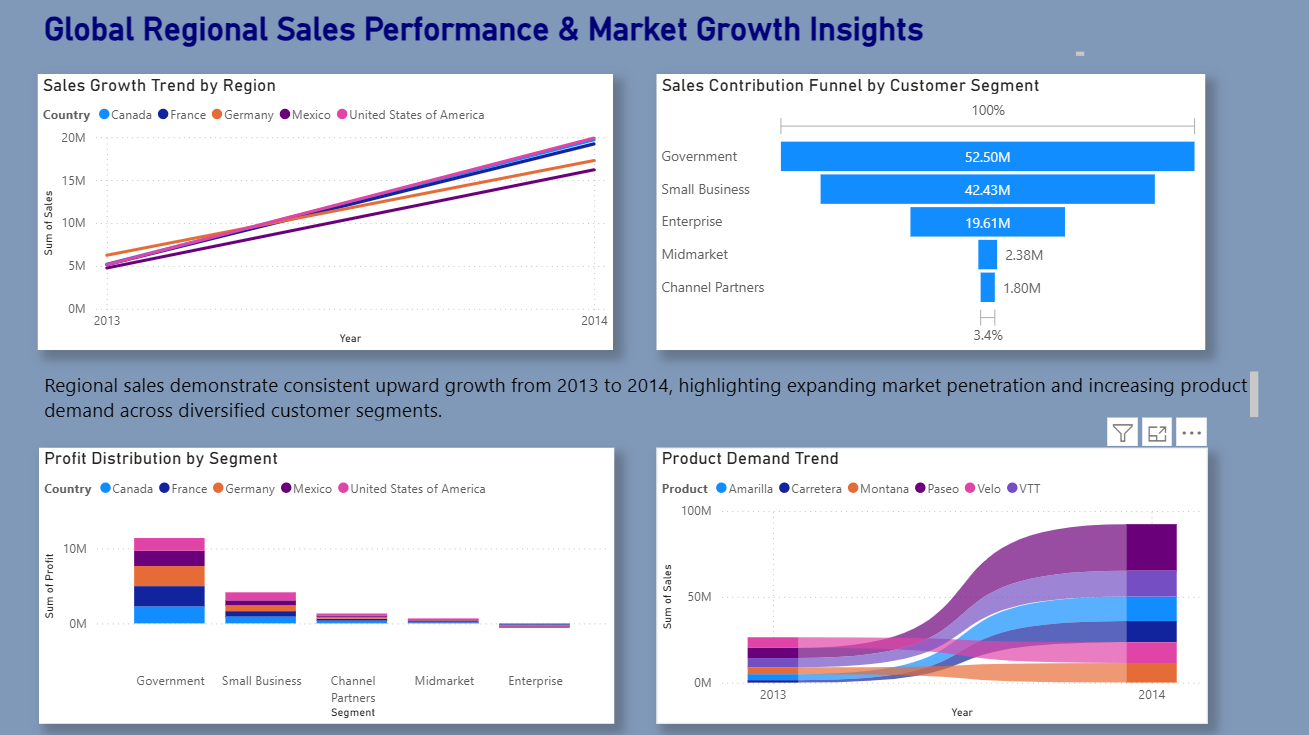

Layout of this report page (visuals, bound fields, positions):
{"tool":"powerbi","page":{"name":"Regional Insights","canvas":[1280,720],"ordinal":2},"visuals":[{"type":"textbox","title":"Global Regional Sales Performance & Market Growth Insights","box":[44,15.9,1013.7,48.9],"z":0},{"type":"lineChart","title":"Sales Growth Trend by Region","fields":{"Category":["financials.Year"],"Y":["Sum(financials. Sales)"],"Series":["financials.Country"]},"box":[42.8,77,555.2,266.6],"z":1000},{"type":"columnChart","title":"Profit Distribution by Segment","fields":{"Category":["financials.Segment"],"Y":["Sum(financials.Profit)"],"Series":["financials.Country"]},"box":[43.3,438.3,555,266.7],"z":2000},{"type":"ribbonChart","title":"Product Demand Trend","fields":{"Category":["financials.Year"],"Series":["financials.Product"],"Y":["Sum(financials. Sales)"]},"box":[640,438.3,531.7,266.7],"z":3000},{"type":"textbox","box":[43.3,360,1181.7,56.7],"z":4000},{"type":"funnel","title":"Sales Contribution Funnel by Customer Segment","fields":{"Category":["financials.Segment"],"Y":["Sum(financials. Sales)"]},"box":[639.5,77,529.5,266.6],"z":5000}]}

Visuals, with their boxes in screenshot pixels (x1, y1, x2, y2), scaled from the page's 1280x720 canvas onto the 1309x735 screenshot:
"Global Regional Sales Performance & Market Growth Insights" textbox: bbox=[45, 16, 1082, 66]
"Sales Growth Trend by Region" lineChart: bbox=[44, 79, 612, 351]
"Profit Distribution by Segment" columnChart: bbox=[44, 447, 612, 720]
"Product Demand Trend" ribbonChart: bbox=[654, 447, 1198, 720]
textbox: bbox=[44, 368, 1253, 425]
"Sales Contribution Funnel by Customer Segment" funnel: bbox=[654, 79, 1195, 351]
